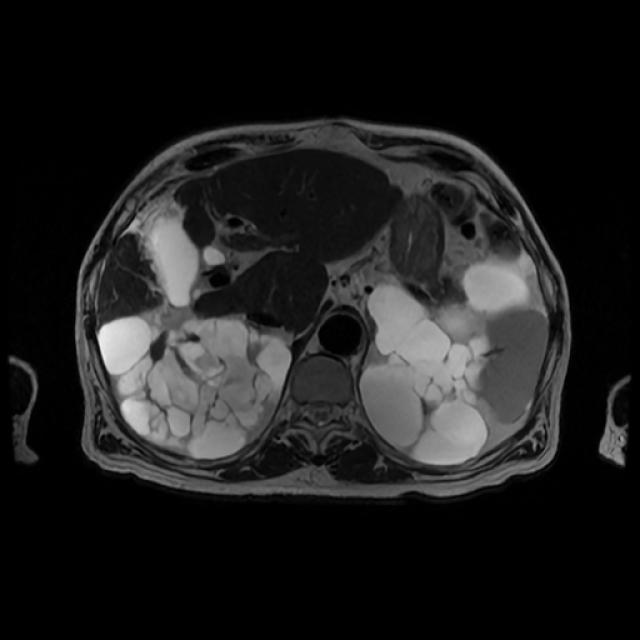sag: (96, 306, 292, 460)
sol: (359, 251, 539, 466)
